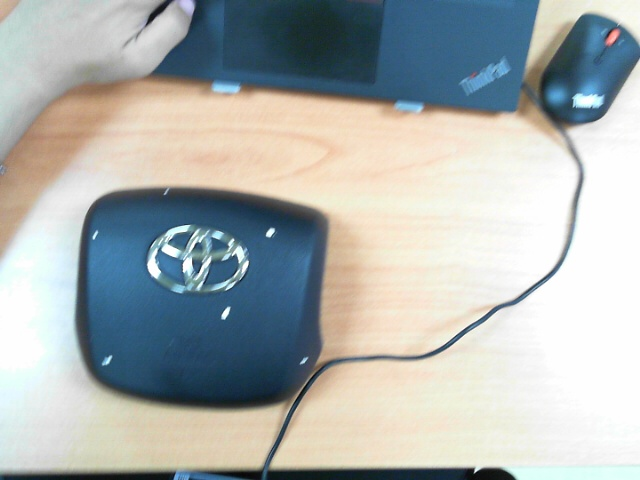Airbag: (221, 306, 231, 320), (101, 354, 112, 366), (265, 227, 276, 238), (299, 356, 309, 366), (92, 230, 99, 240), (163, 188, 170, 196)
